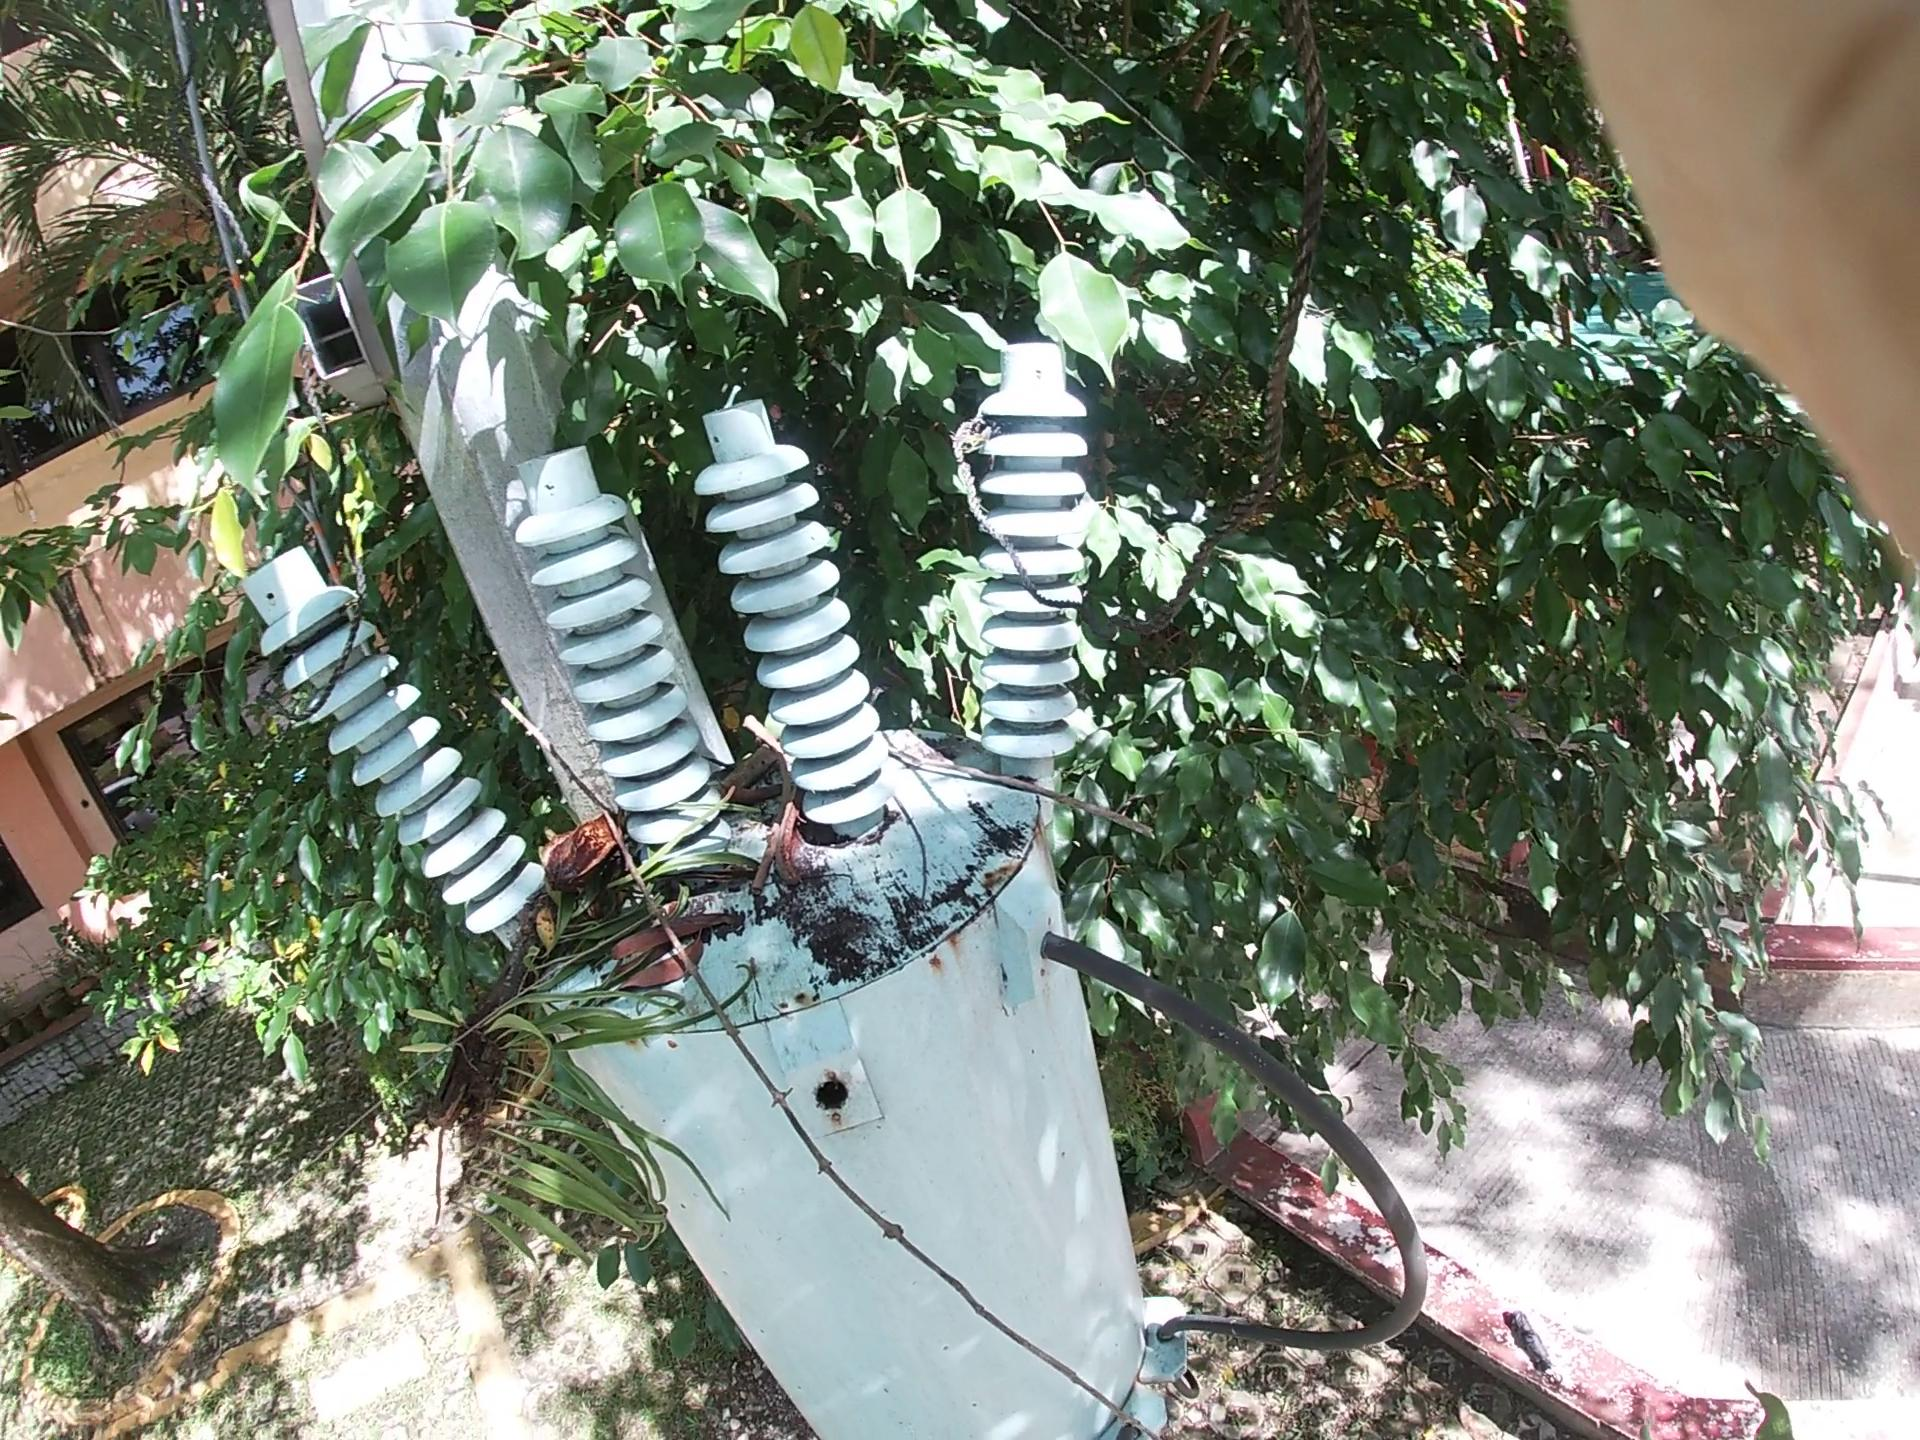branch with leaves: (321, 829, 623, 1180)
leaf: (614, 911, 754, 1019)
mahogany fruit: (711, 735, 848, 915), (543, 787, 649, 905)
tree branch: (519, 729, 1052, 1351), (674, 684, 854, 973), (903, 700, 1161, 846)
